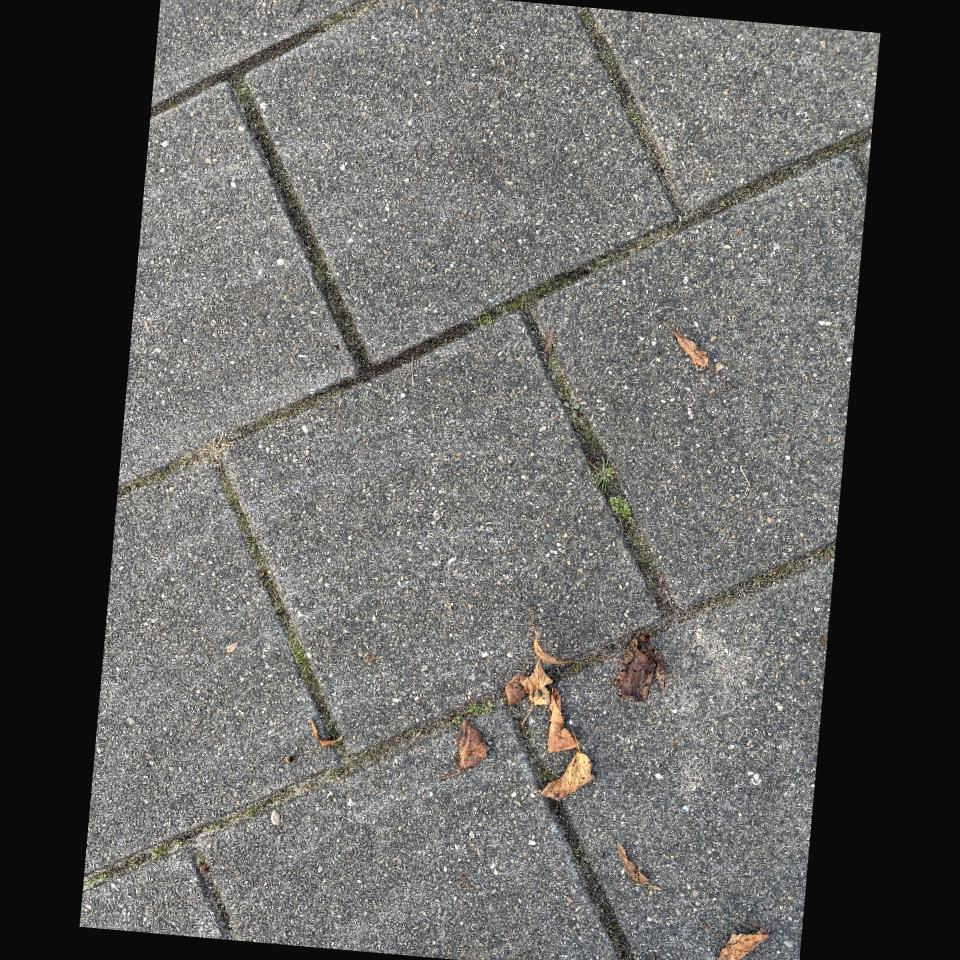weed: (593, 457, 615, 493), (609, 496, 630, 517), (564, 401, 580, 425), (467, 701, 492, 716), (477, 313, 493, 326), (452, 715, 462, 723), (174, 839, 182, 846), (210, 824, 214, 829), (207, 829, 212, 831)
